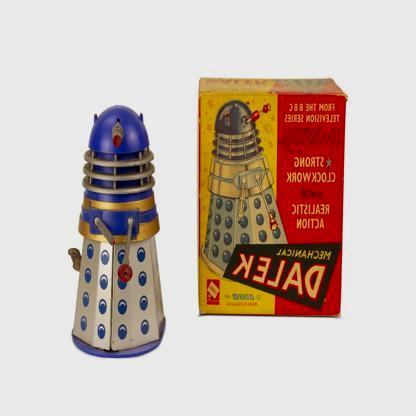dalek: (42, 94, 173, 384)
